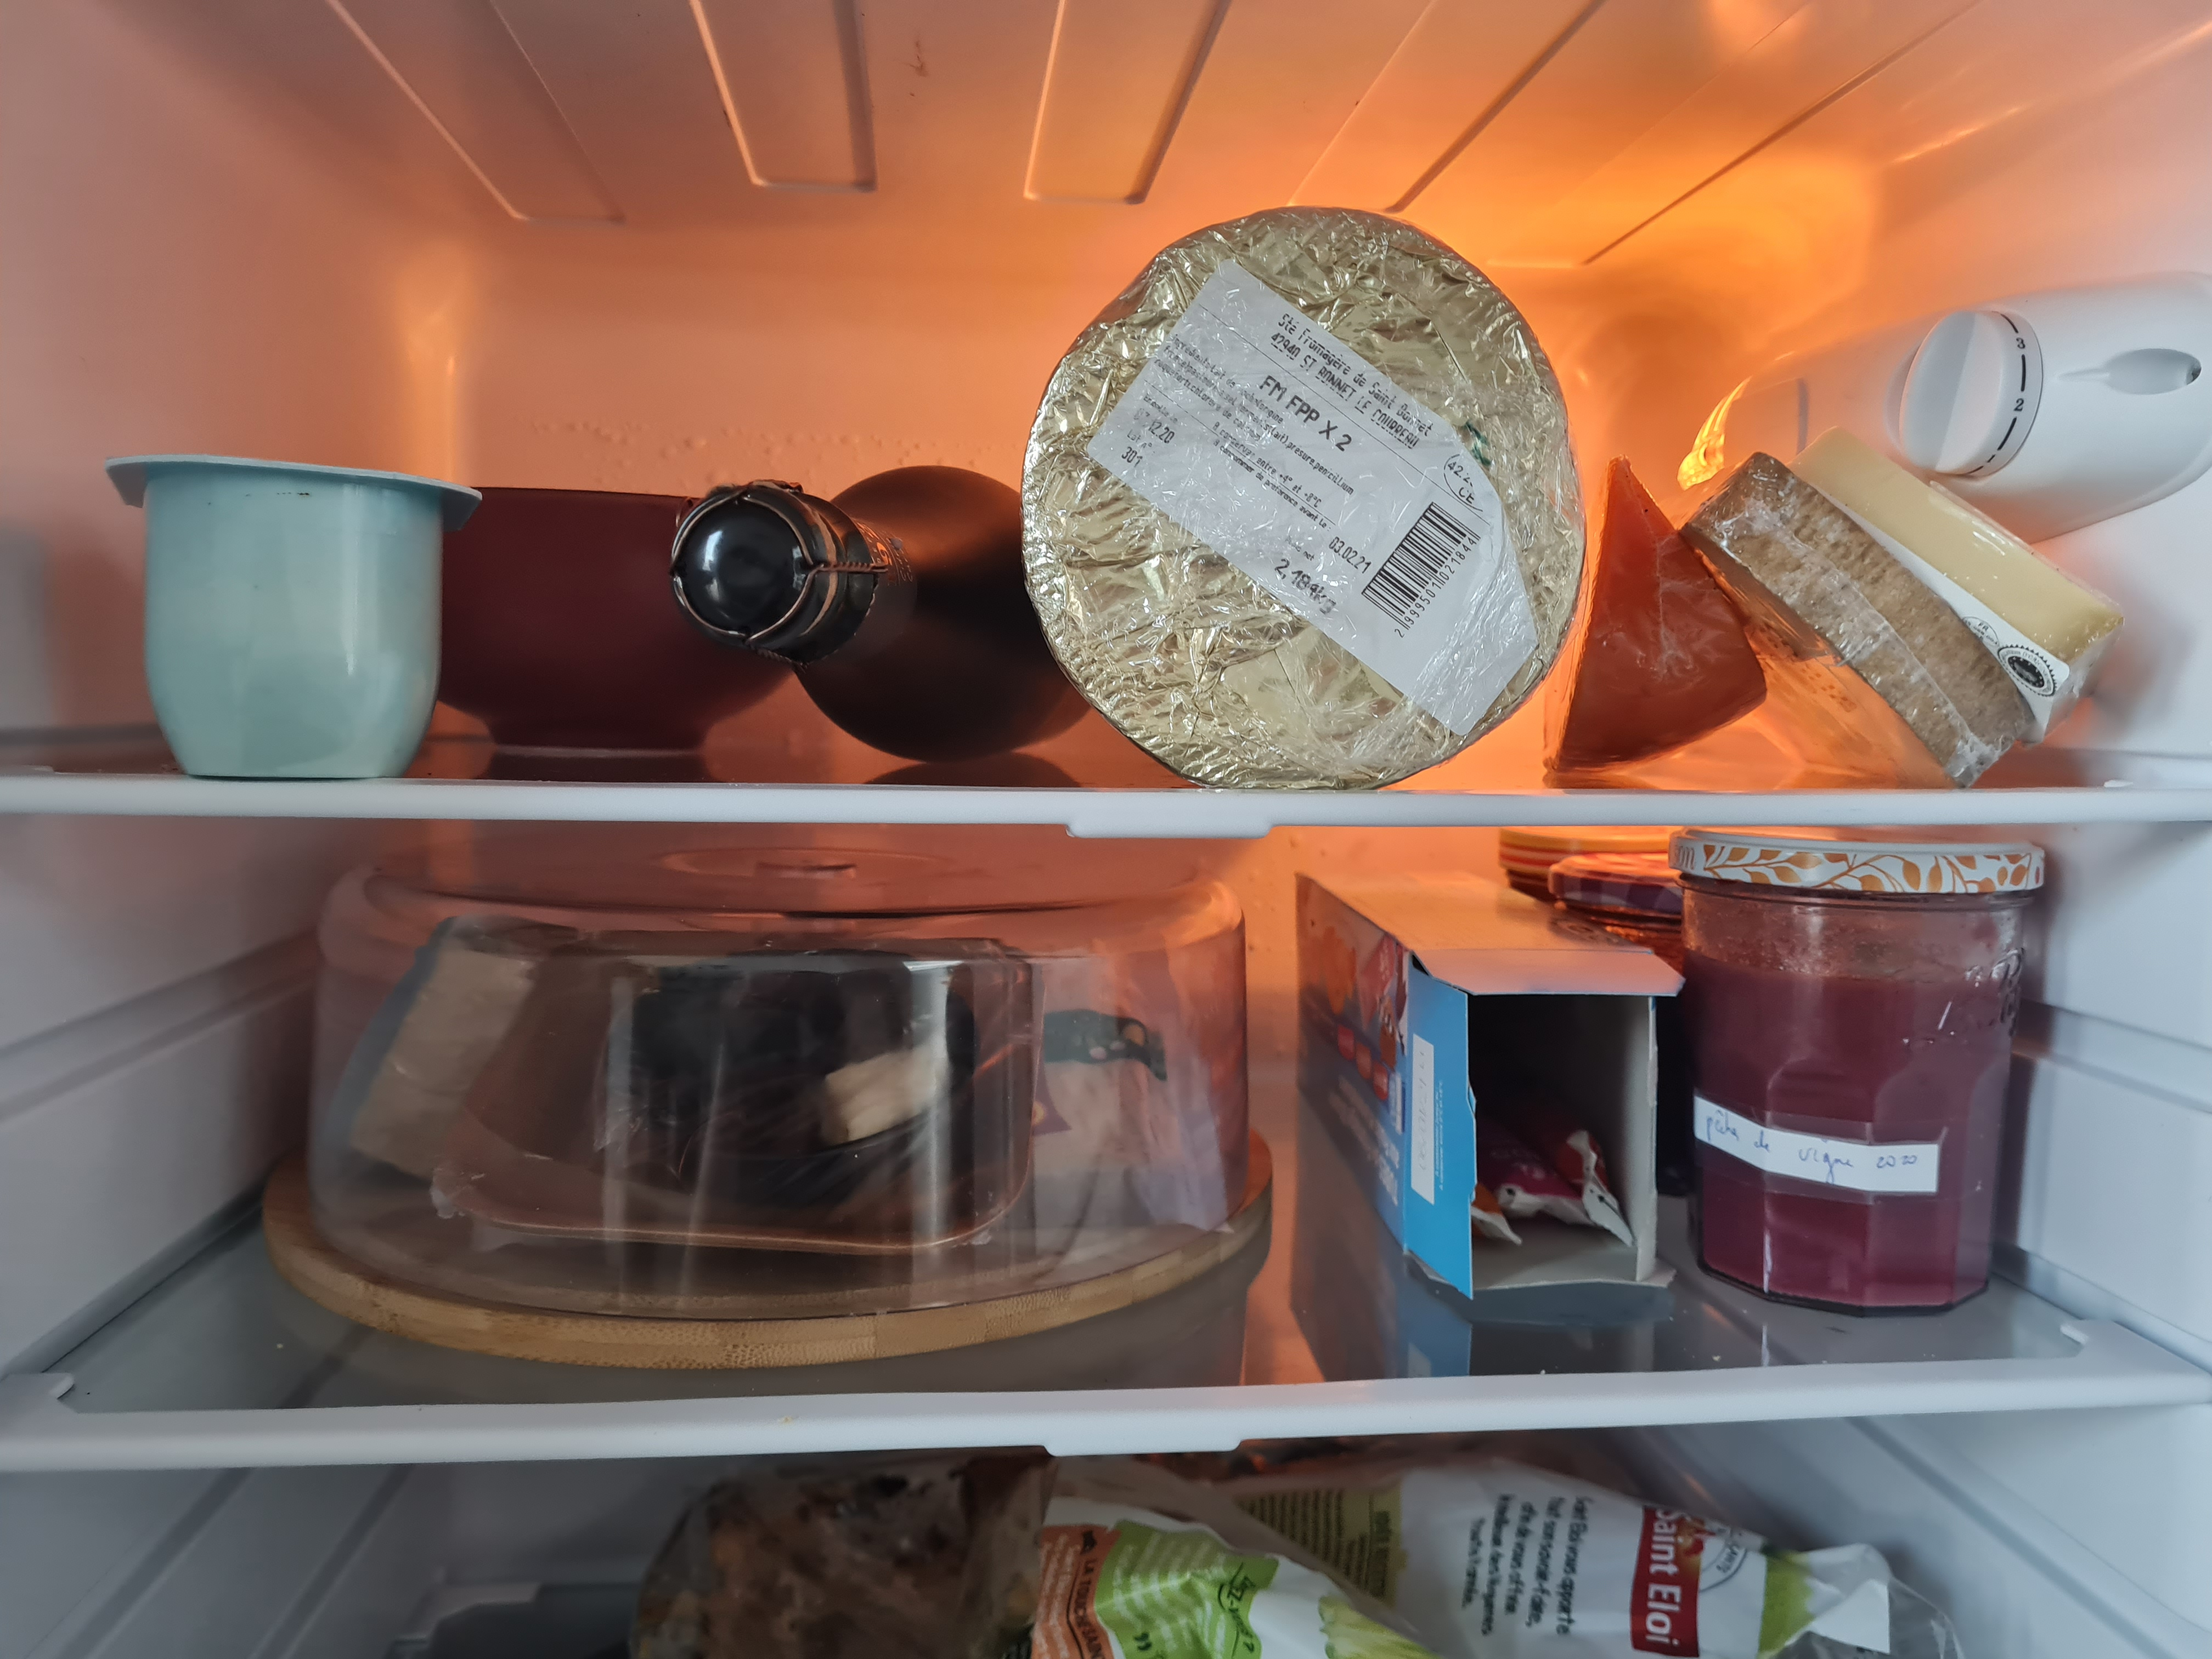bottle: (681, 464, 1101, 760)
yoghurt: (111, 460, 484, 784)
